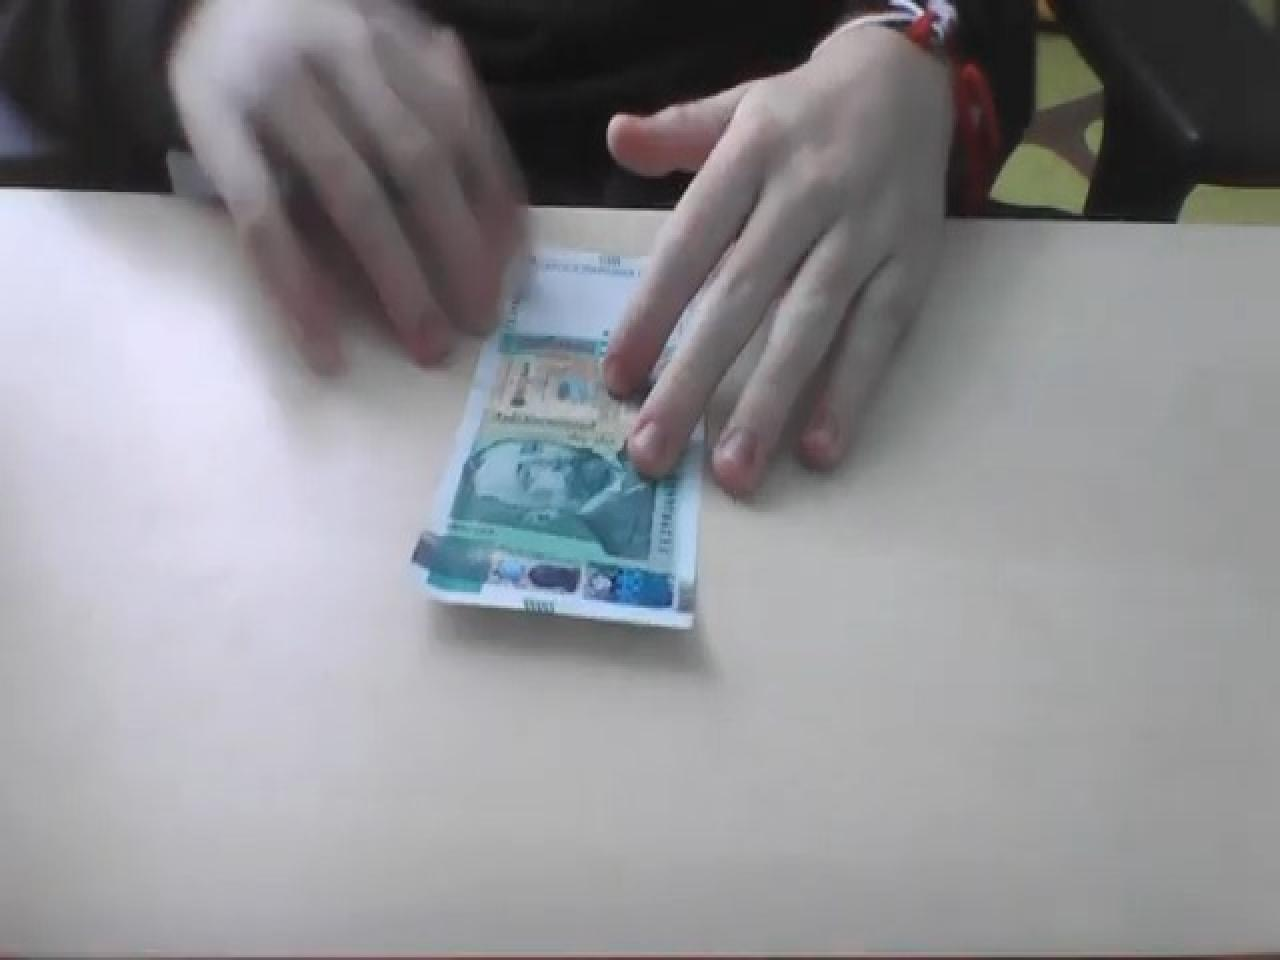100leva: (408, 245, 708, 631)
